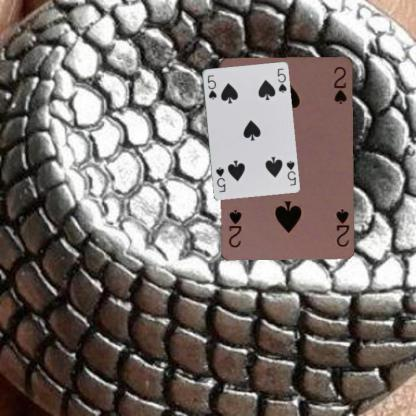2s: (332, 206, 350, 248)
5s: (284, 158, 298, 186), (204, 73, 218, 100)
